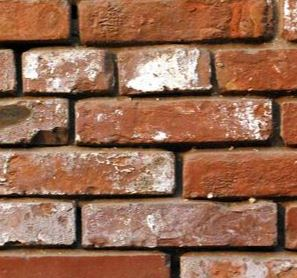brick: (80, 201, 278, 249), (70, 100, 273, 145), (1, 150, 178, 196), (77, 1, 274, 42), (184, 151, 297, 199), (118, 46, 212, 94), (1, 251, 173, 277), (20, 48, 113, 96), (216, 46, 297, 93), (1, 200, 78, 244), (1, 1, 72, 43), (177, 255, 297, 276)
